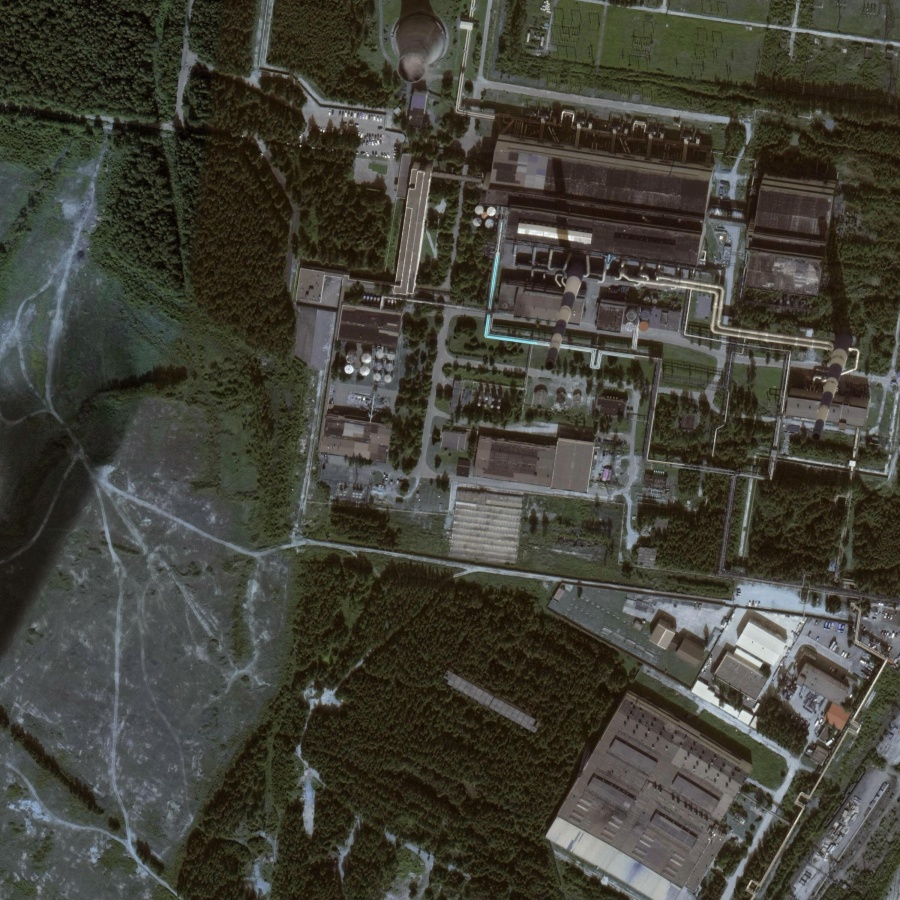PowerPlant: (498, 136, 856, 457)
